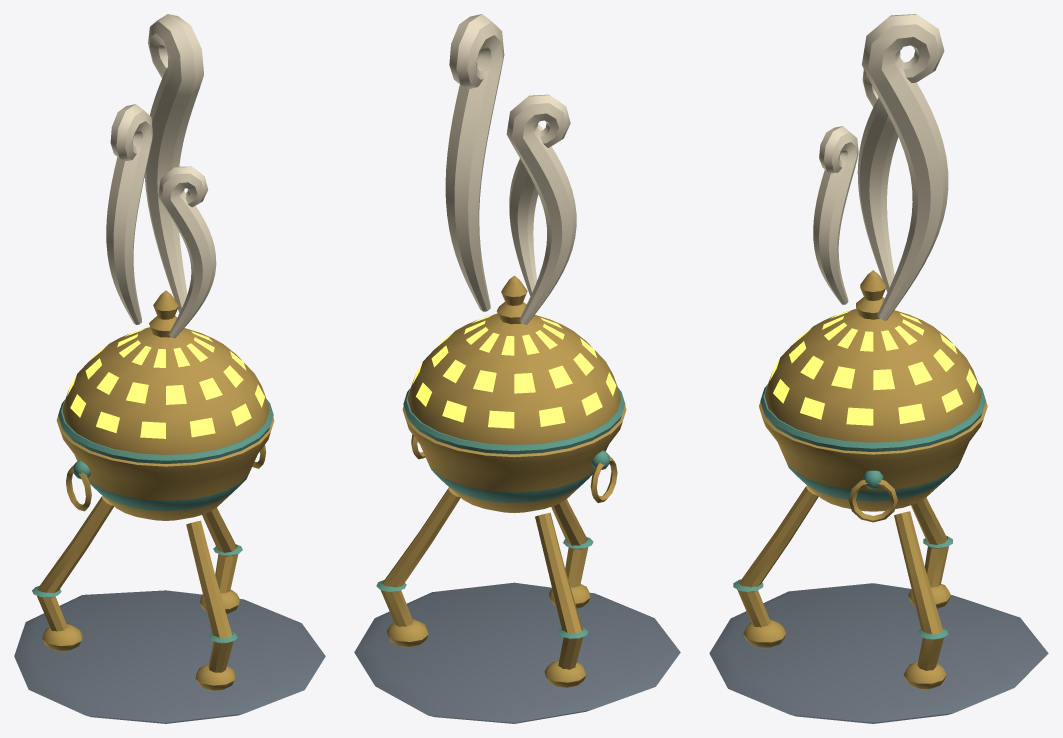
Rendered from deco_incense_burner.fbx.
3 renders of one model, left to right at view 1: azimuth 30°, elevation 25°; view 2: azimuth 150°, elevation 25°; view 3: azimuth 270°, elevation 25°, orthographic. The views are drawn at different scales.
Visible parts, largest first — view 1: IncenseBurner_Legs, IncenseBurner_Dome, IncenseBurner_Smoke, IncenseBurner_Bowl; view 2: IncenseBurner_Legs, IncenseBurner_Dome, IncenseBurner_Smoke, IncenseBurner_Bowl; view 3: IncenseBurner_Legs, IncenseBurner_Dome, IncenseBurner_Smoke, IncenseBurner_Bowl.
Part boxes in pixels (bbox=[...]): IncenseBurner_Legs: bbox=[14, 496, 325, 723]; IncenseBurner_Dome: bbox=[58, 290, 273, 463]; IncenseBurner_Smoke: bbox=[106, 14, 216, 338]; IncenseBurner_Bowl: bbox=[56, 408, 274, 520]; IncenseBurner_Legs: bbox=[354, 487, 680, 723]; IncenseBurner_Dome: bbox=[403, 275, 625, 454]; IncenseBurner_Smoke: bbox=[445, 14, 576, 324]; IncenseBurner_Bowl: bbox=[402, 405, 626, 513]; IncenseBurner_Legs: bbox=[709, 486, 1048, 723]; IncenseBurner_Dome: bbox=[760, 270, 985, 451]; IncenseBurner_Smoke: bbox=[813, 14, 948, 320]; IncenseBurner_Bowl: bbox=[759, 401, 987, 522].
Bounding box in the file's own units: 110 × 241 × 113.
